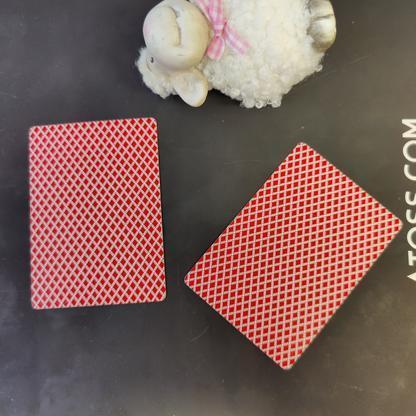card: (182, 136, 405, 373), (15, 107, 176, 315)
